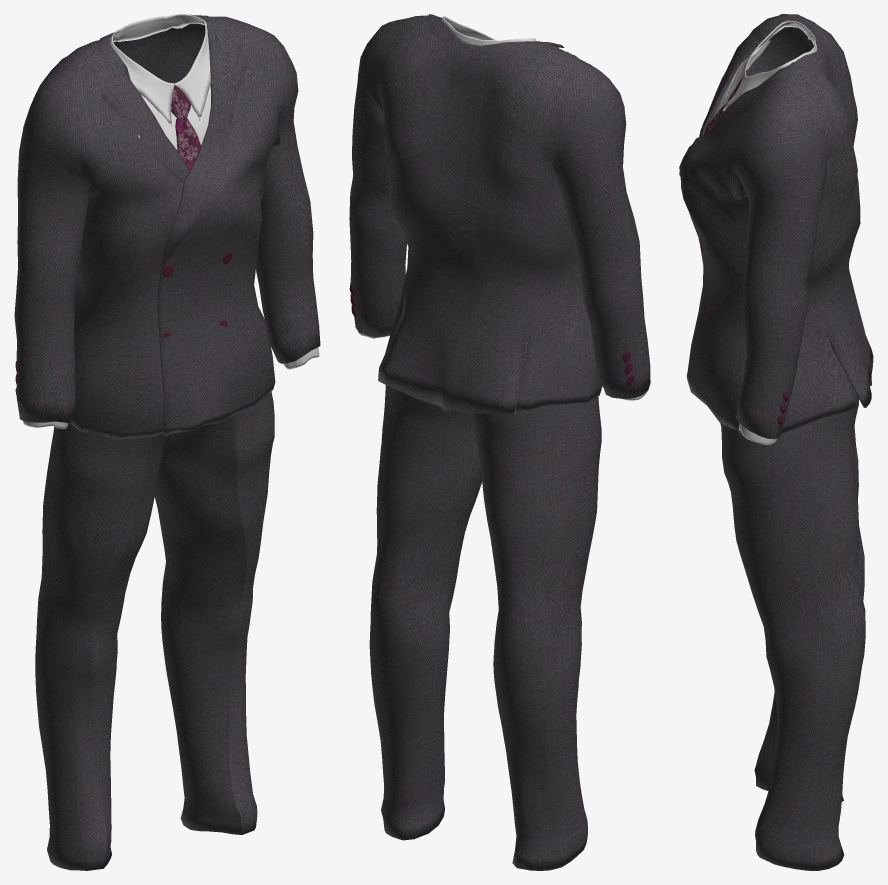
The model's file is full_trouser_suit_f.gltf.
3 views of the same model, side by side, from view 1: azimuth 30°, elevation 25°; view 2: azimuth 150°, elevation 25°; view 3: azimuth 270°, elevation 25° (orthographic). The views are drawn at different scales.
Visible parts, largest first — view 1: full_trouser_suit_f; view 2: full_trouser_suit_f; view 3: full_trouser_suit_f.
Part boxes in pixels (<box>): full_trouser_suit_f: <box>14,14,320,870</box>; full_trouser_suit_f: <box>349,14,650,870</box>; full_trouser_suit_f: <box>679,14,873,870</box>.
Size of the model in its own units: 0.5508 by 1.47 by 0.3261.
1 material, 1 textured.
